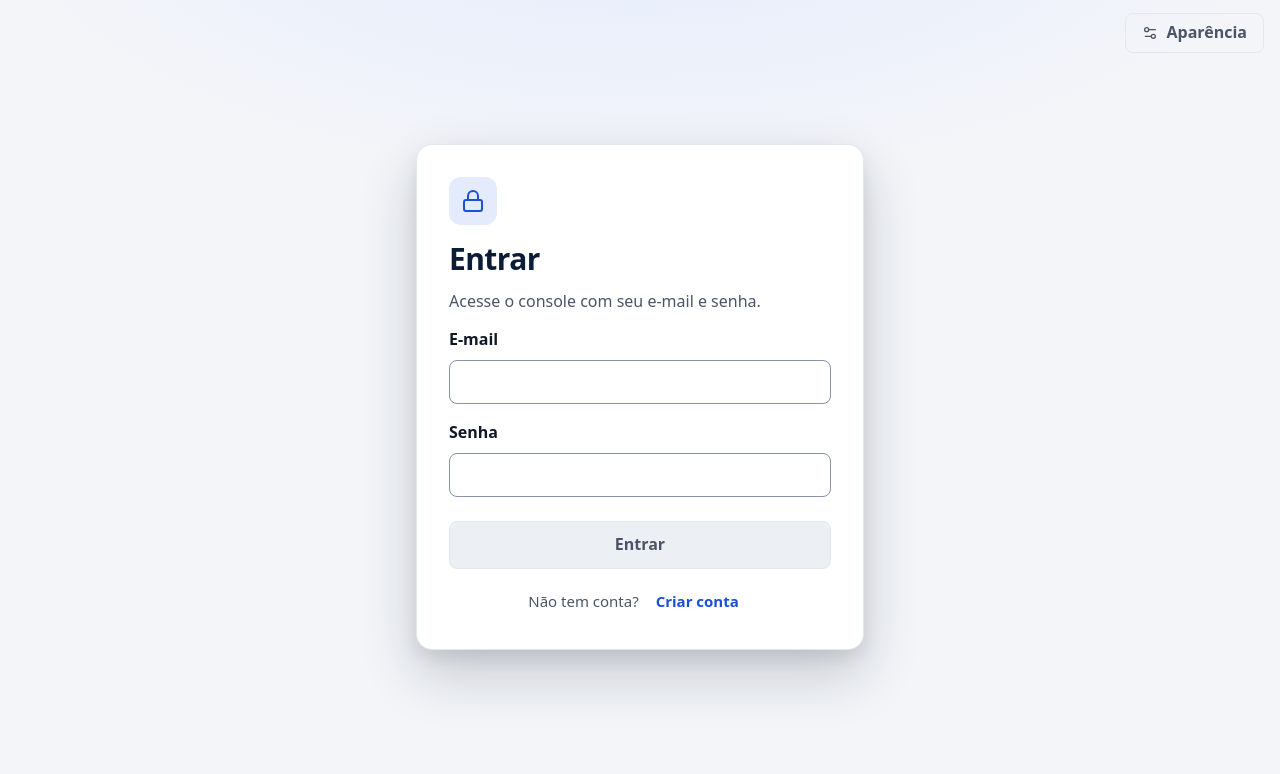
Test: login (servidor com banco) › login em uso mostra o motivo e volta para entrar sem perder a tela
Click the button "Criar conta" at (697, 601), box [643, 585, 752, 617]
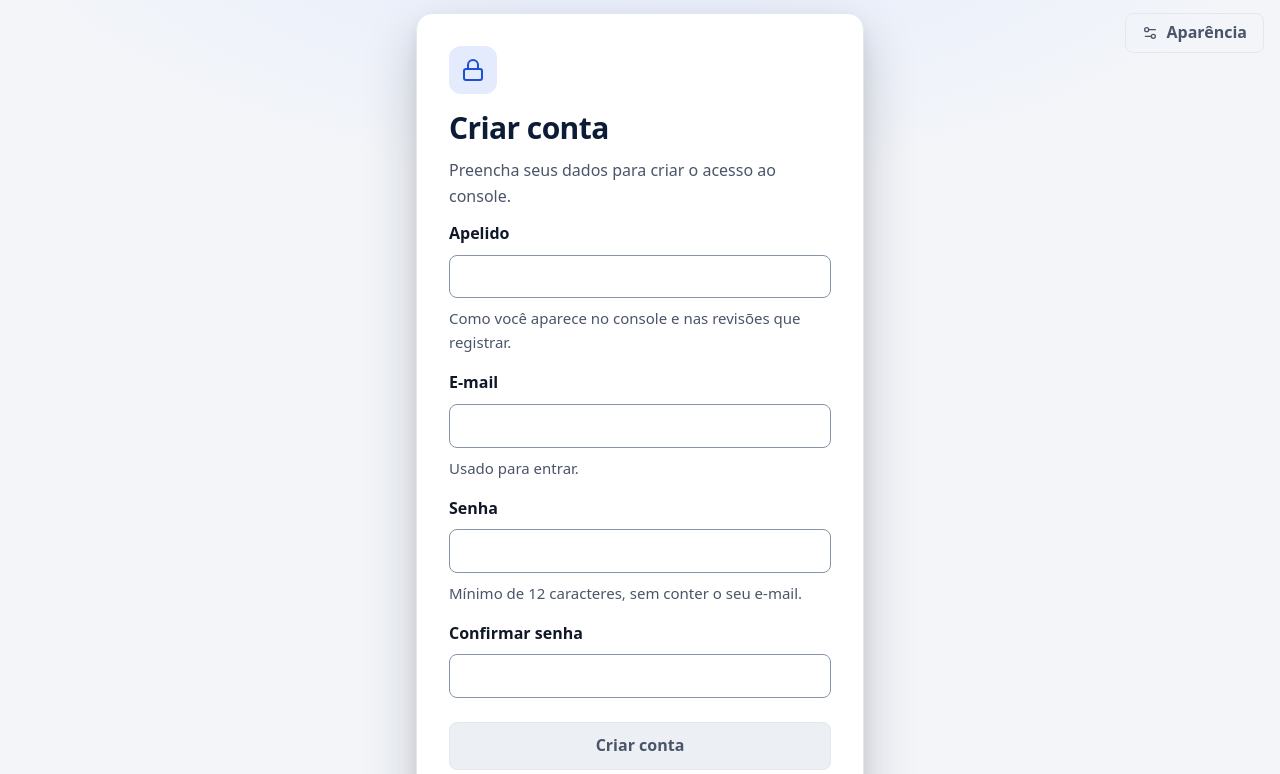
Type "Ana Lima" into the field labelled "Apelido" at (640, 277), box [449, 255, 831, 298]
Type "ana@lexis.dev" into the field labelled "E-mail" at (640, 426), box [449, 404, 831, 448]
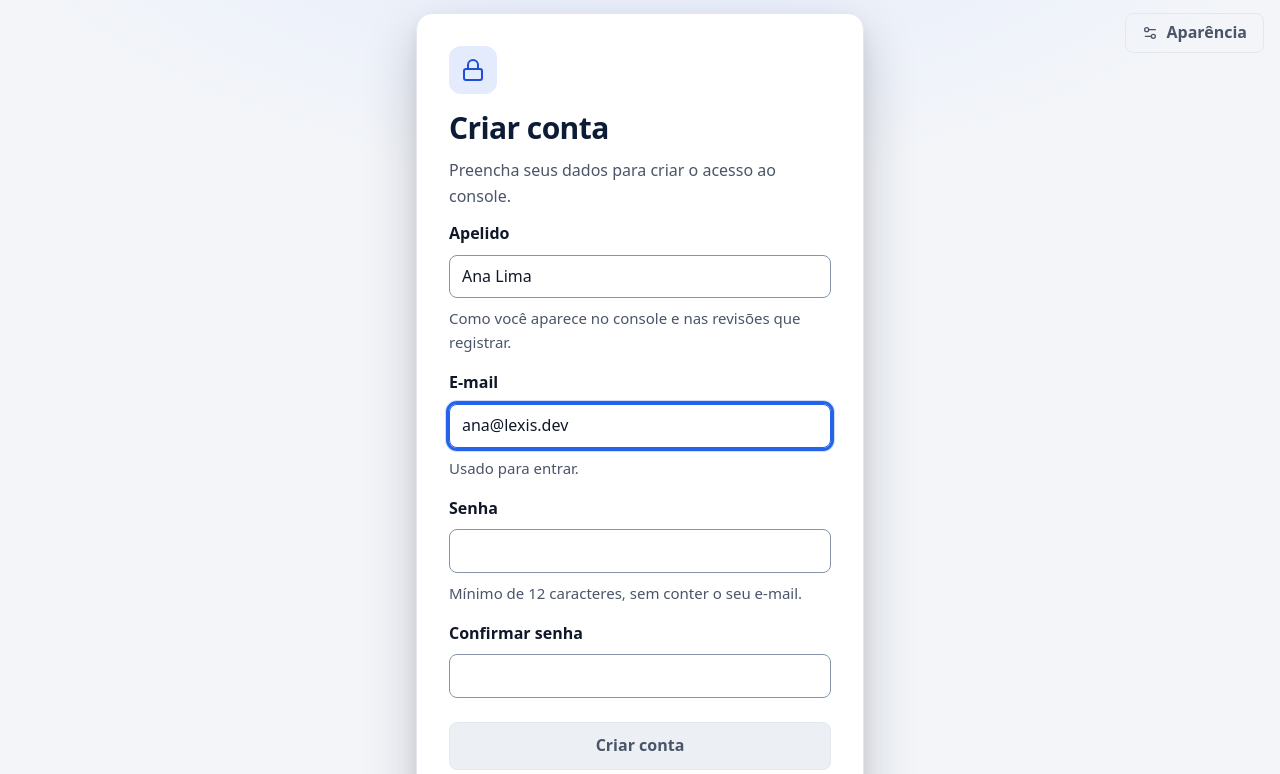
Type "senha-nova-bem-longa" into the password field labelled "Senha" at (640, 551), box [449, 529, 831, 573]
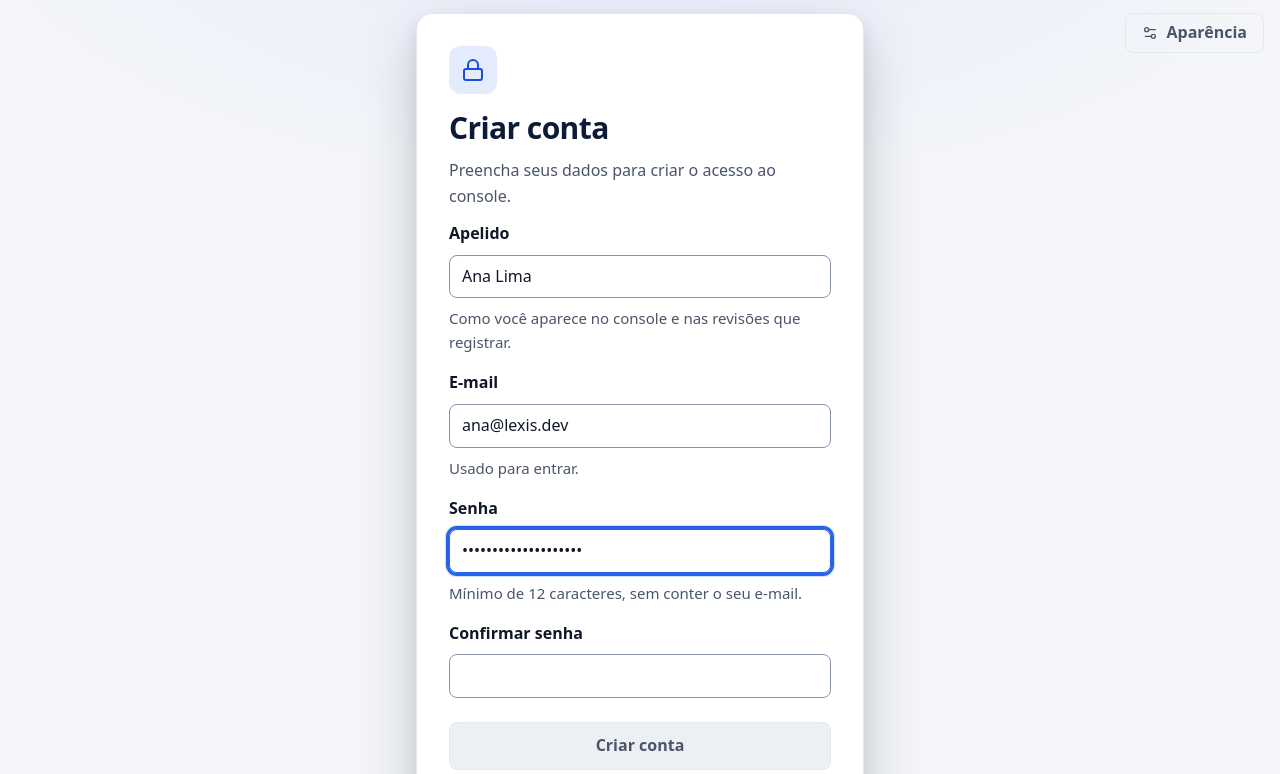
Type "senha-nova-bem-longa" into the password field labelled "Confirmar senha" at (640, 676), box [449, 654, 831, 698]
(page scrolled)
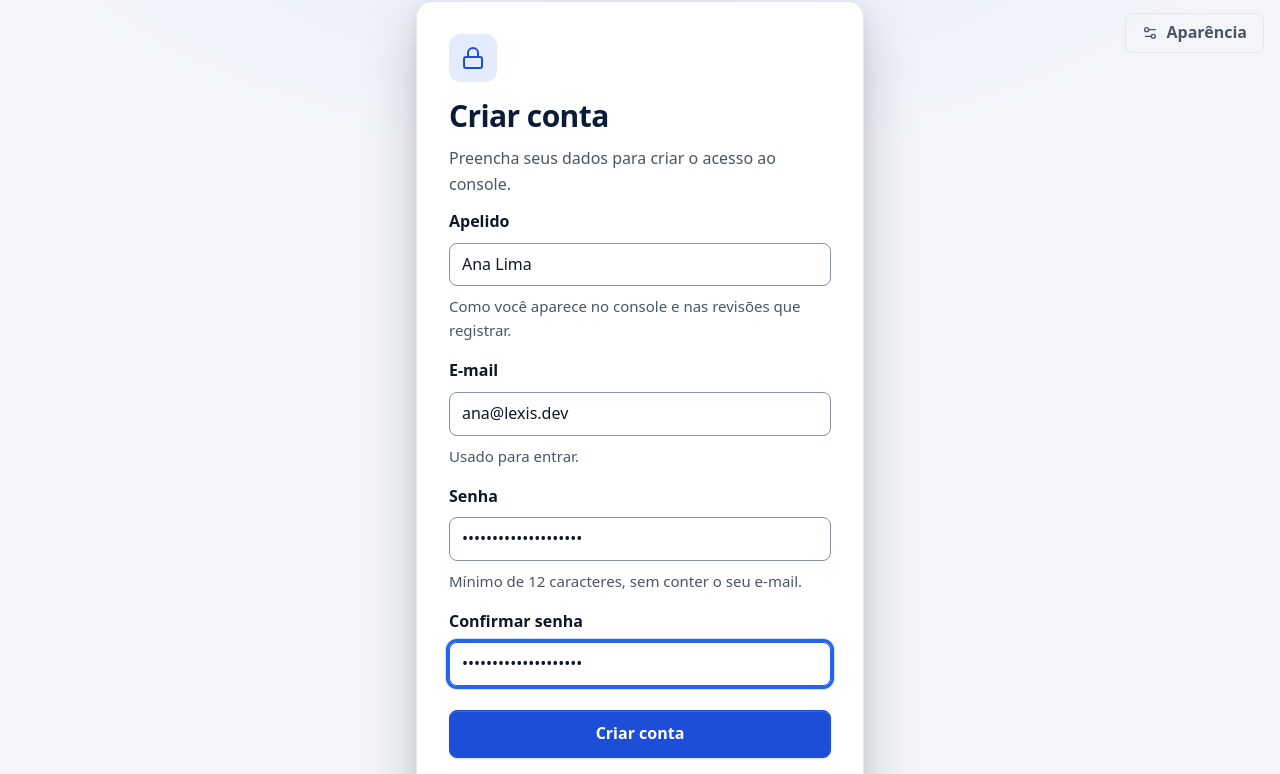
Click the button "Criar conta" at (640, 734), box [449, 710, 831, 758]
(page scrolled)
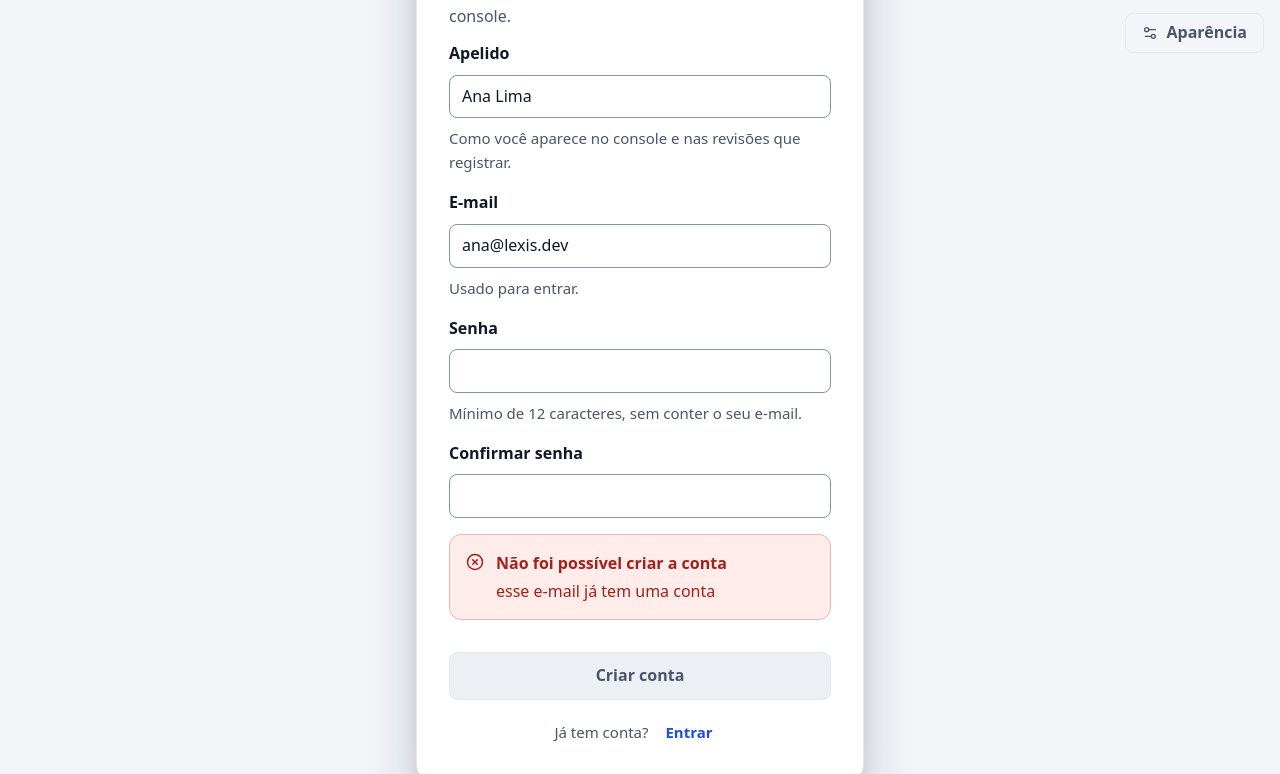
Expected: the message shows "esse e-mail já tem uma conta", [496, 580, 715, 602]
Click the button "Entrar" at (689, 732), box [652, 716, 726, 748]
(page scrolled)
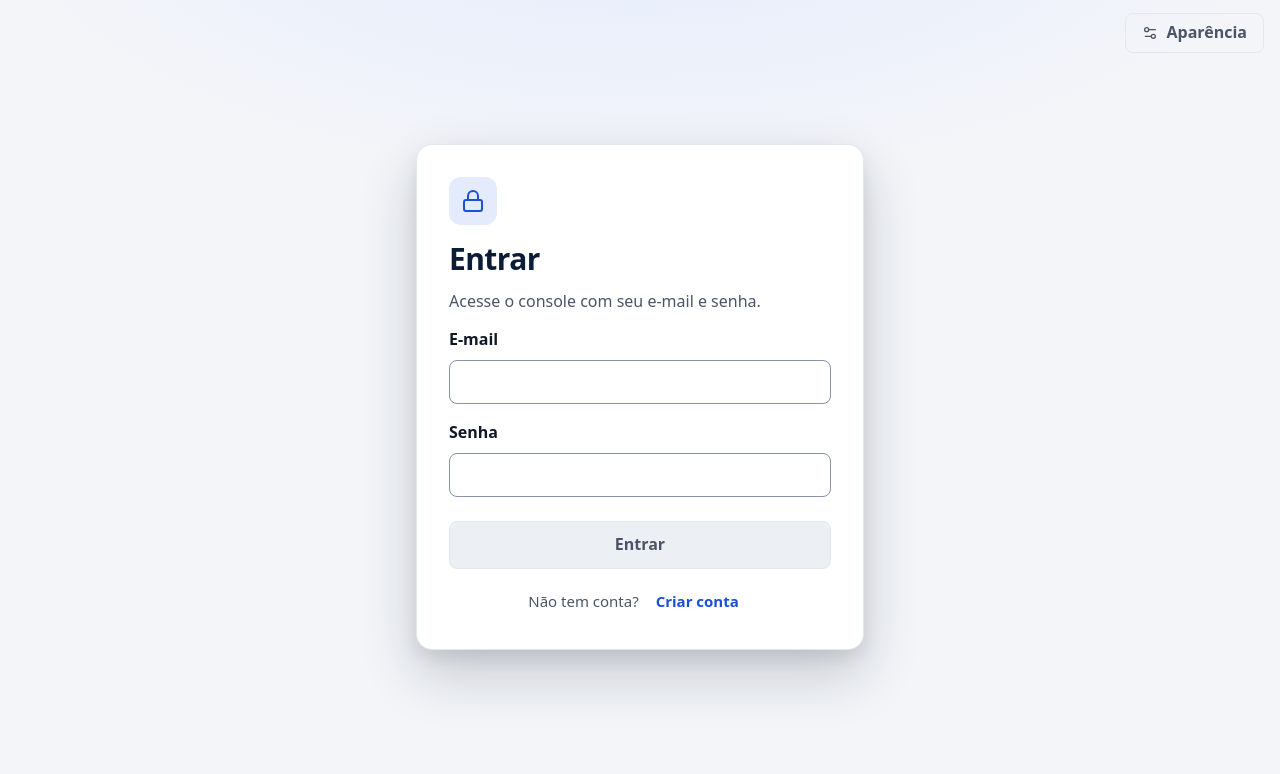
Expected: the heading "Entrar" is shown, [449, 238, 540, 279]
